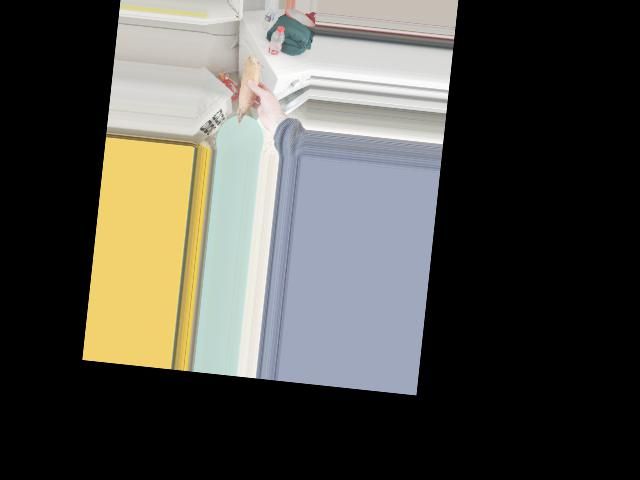sweet_potato: (231, 51, 265, 123)
